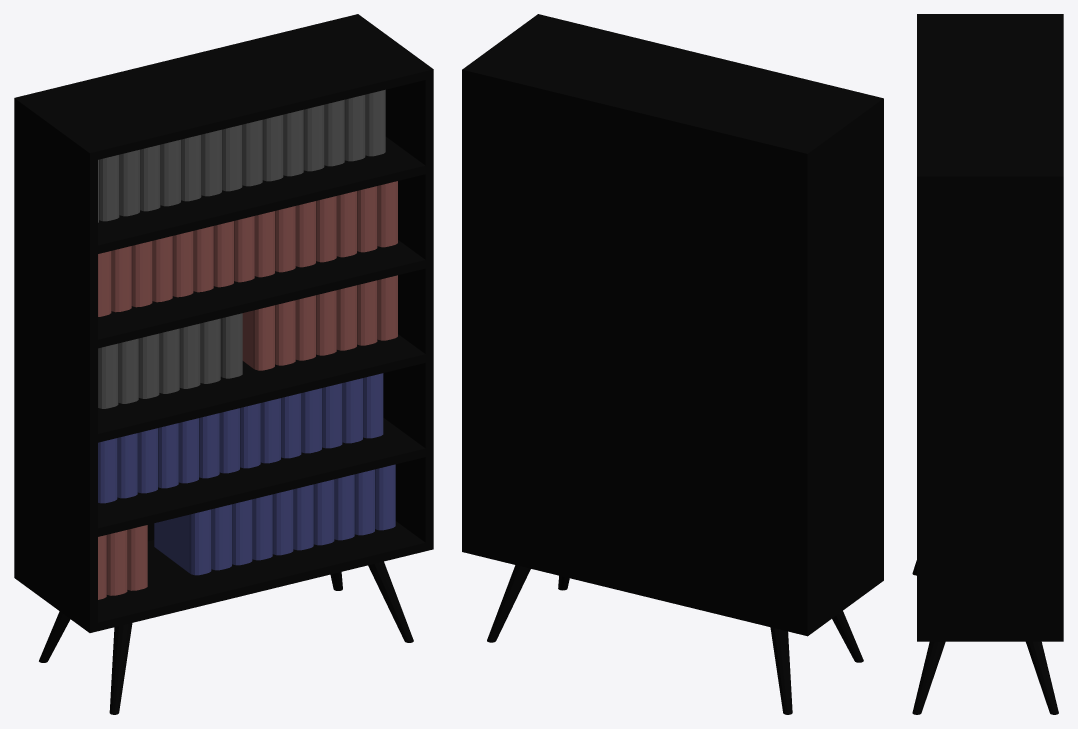
File: library.fbx
3 renders of one model, left to right at view 1: azimuth 30°, elevation 25°; view 2: azimuth 150°, elevation 25°; view 3: azimuth 270°, elevation 25°, orthographic. The views are drawn at different scales.
Parts seen in each view (by area): view 1: Armoire, Book.003, Book.001, Book.007, Book.013, Book.011, Book.005, Pied Armoire, Book.009, Specific Book; view 2: Armoire, Pied Armoire; view 3: Armoire, Pied Armoire.
Boxes of the visible parts, box(x1,y1,x2,y2) form: Armoire: box(14, 14, 433, 632); Book.003: box(98, 181, 397, 316); Book.001: box(98, 89, 385, 222); Book.007: box(98, 373, 383, 503); Book.013: box(154, 464, 395, 575); Book.011: box(242, 275, 397, 370); Book.005: box(98, 318, 220, 408); Pied Armoire: box(39, 561, 413, 714); Book.009: box(98, 525, 147, 599); Specific Book: box(220, 313, 242, 378); Armoire: box(462, 14, 883, 636); Pied Armoire: box(487, 565, 863, 714); Armoire: box(917, 14, 1063, 641); Pied Armoire: box(912, 560, 1058, 714).
Size of the model in its own units: 420 by 660 by 165.
